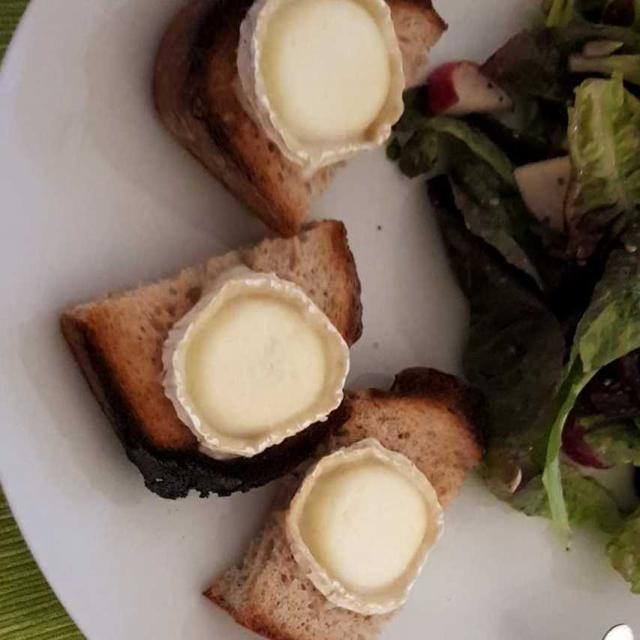bread: (66, 0, 503, 635)
cheese: (135, 5, 454, 626)
